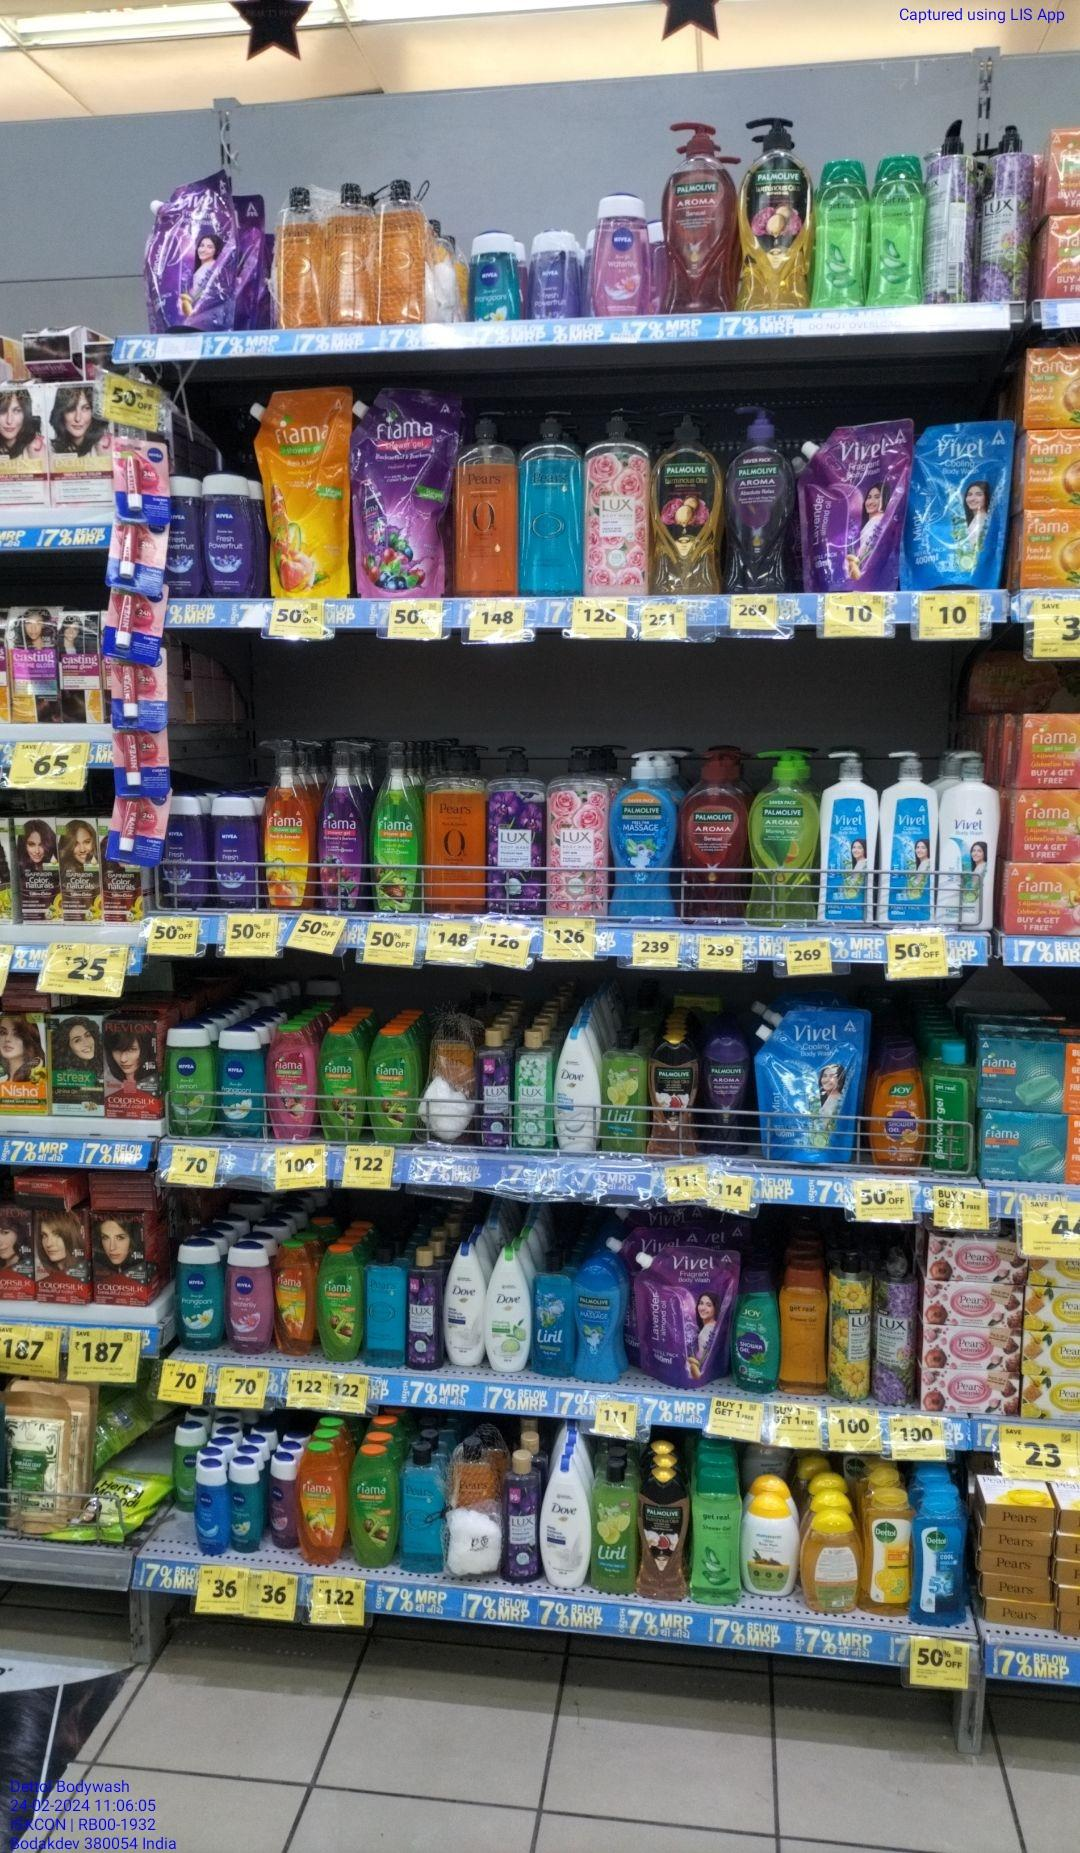Dettol_Bodywash_Cool: (914, 1496, 969, 1626)
Dettol_Bodywash_Refresh: (860, 1493, 910, 1618)
Dove_Deep_Moisture_Body_Wash_250ML: (541, 1460, 591, 1588), (446, 1248, 485, 1366)
Dove_Gentle_Exfoliating_Body_Wash_250ML: (554, 1031, 600, 1150)
Dove_Refreshing_Body_Wash_250ML: (487, 1249, 531, 1371)
Fiama_Shower_Gel_Lemongrass_and_Jojoba_250ML: (348, 1450, 399, 1569), (369, 1028, 419, 1142), (318, 1027, 366, 1142), (318, 1246, 364, 1360)
Fiama_Shower_Gel_Patchouli_and_Macadamia_250ML: (269, 1025, 315, 1137)
Fiama_Shower_Gel_Peach_and_Avocado_250ML: (300, 1446, 345, 1566), (276, 1245, 315, 1357)
Get_Real_Shower_Gel_Moisturising_Glycerin_300ML: (782, 1264, 827, 1397)
Joy_Shower_Gel_Mandarin_and_Lemongrass_250ML: (869, 1046, 926, 1167)
Joy_Shower_Gel_Mint_and_Eucalyptus_250ML: (732, 1272, 780, 1398)
Liril_Cooling_Mint_Body_Wash_250ML: (534, 1252, 573, 1376)
Liril_Lime_and_Tea_Tree_Oil_Body_Wash_250ML: (590, 1466, 636, 1596), (602, 1032, 645, 1153)
Lux_Black_Orchid_Scent_and_Juniper_Oil_Body_Wash_245ML: (503, 1456, 539, 1583), (409, 1249, 445, 1369), (476, 1033, 510, 1146)
Lux_Body_Wash_Skin_Detox_Freesia_Scent_and_Alove_Vera_245ML: (513, 1036, 554, 1149)
Nivea_Shower_Gel_Frangipani_and_Oil_250ML: (176, 1243, 225, 1351), (216, 1032, 265, 1136)
Nivea_Shower_Gel_Fresh_Powerfruit_250ML: (198, 474, 255, 595), (207, 799, 260, 907)
Nivea_Shower_Gel_Lemon_and_Oil_250ML: (163, 1028, 215, 1135)
Nivea_Shower_Gel_Waterlily_and_Oil_250ML: (591, 193, 649, 316), (228, 1248, 274, 1354), (269, 1456, 300, 1550)
Palmolive_Aroma_Moments_Feel_The_Massage_Shower_Gel_250ML: (576, 1266, 622, 1387)
Palmolive_Aroma_Relax_250ML: (699, 1038, 750, 1155)
Palmolive_Luminous_Oils_With_White_Orchid_Shower_Gel_250ML: (636, 1471, 689, 1601), (648, 1040, 697, 1155)
Pears_Pure_Glycerin_and_Mint_Extracts_Body_Wash_250ML: (400, 1447, 446, 1574), (365, 1248, 406, 1366)
